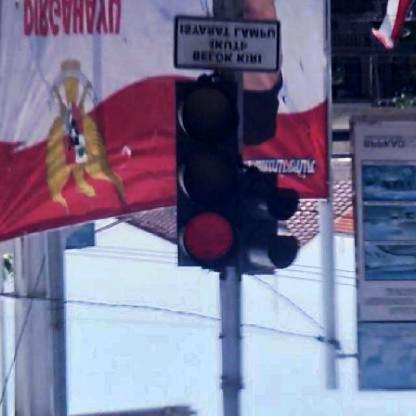Traffic Light -Red-: (176, 82, 239, 268)
